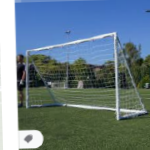goals: (22, 31, 150, 124)
